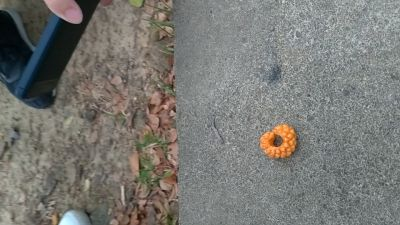eggs: (257, 122, 299, 162)
